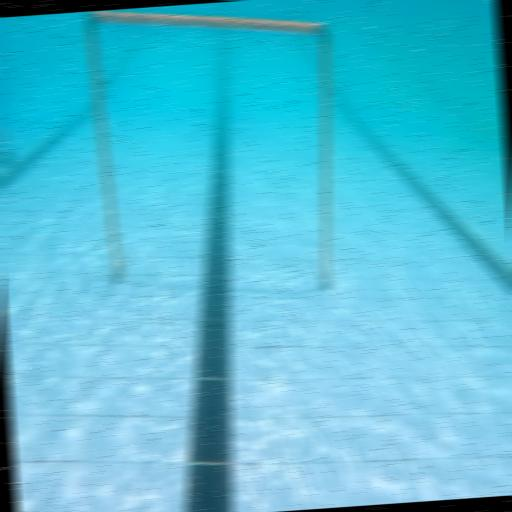gate: (83, 0, 348, 314)
